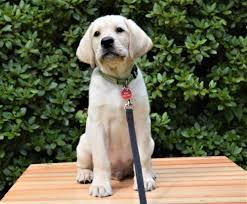Dog: (73, 14, 155, 80)
